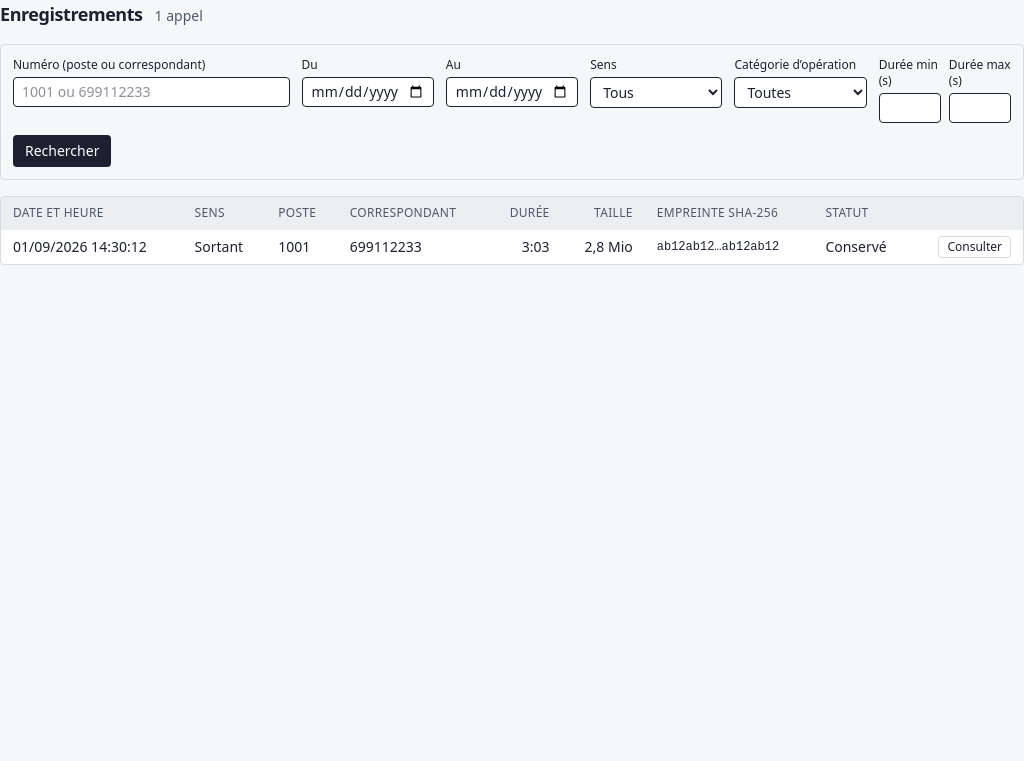
Scenario: réécoute d’un appel › referme la fiche sans laisser le lecteur derrière elle
Click the button with aria-label "Consulter l’appel 16778001" at (975, 247), box [938,236,1011,258]
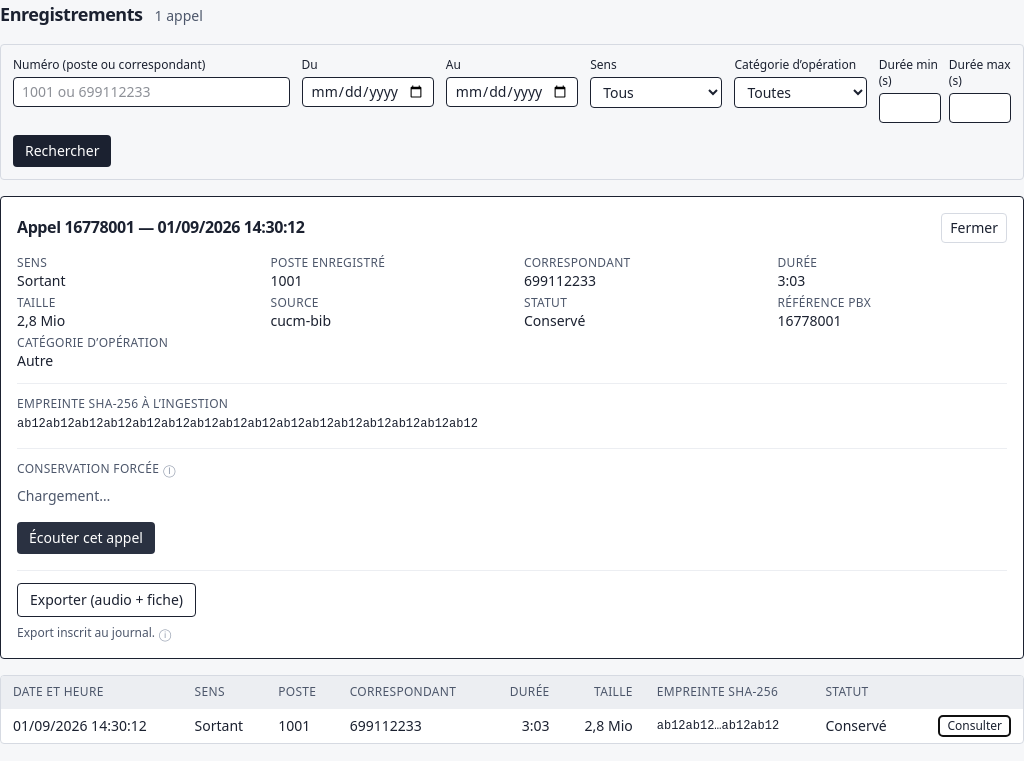
Click the button "Écouter cet appel" at (86, 538), box [17,522,155,554]
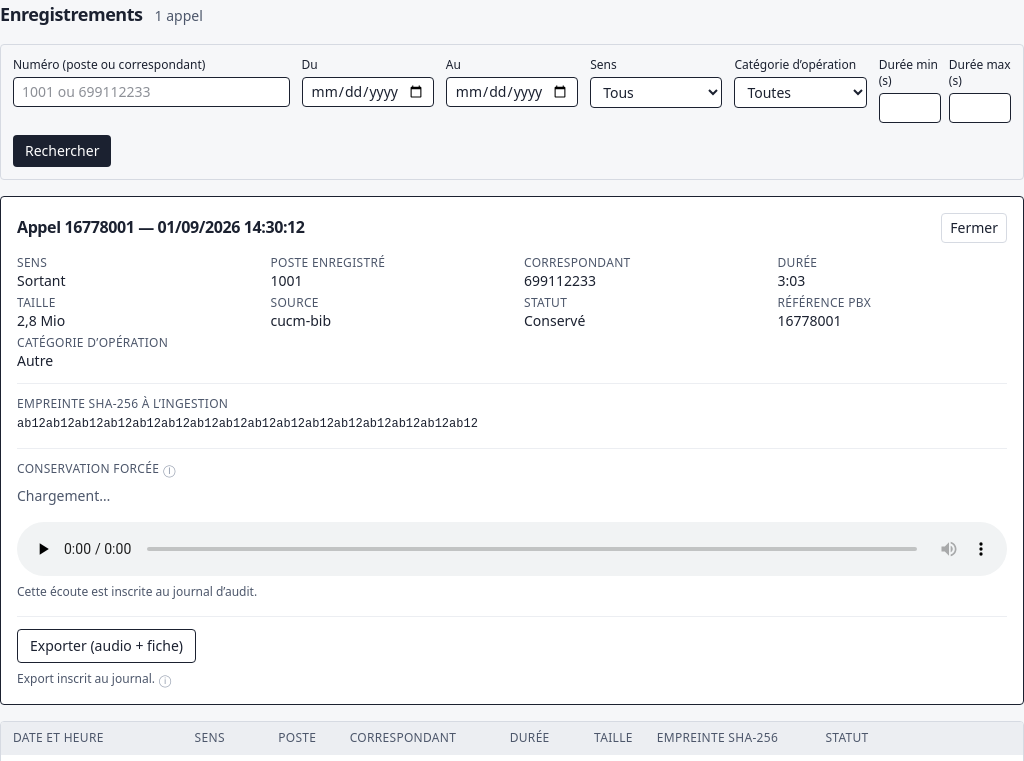
Expected: the element named "Lecture de l’appel 16778001" is shown, [17,522,1007,576]
Click the button "Fermer" at (974, 228), box [941,213,1007,243]
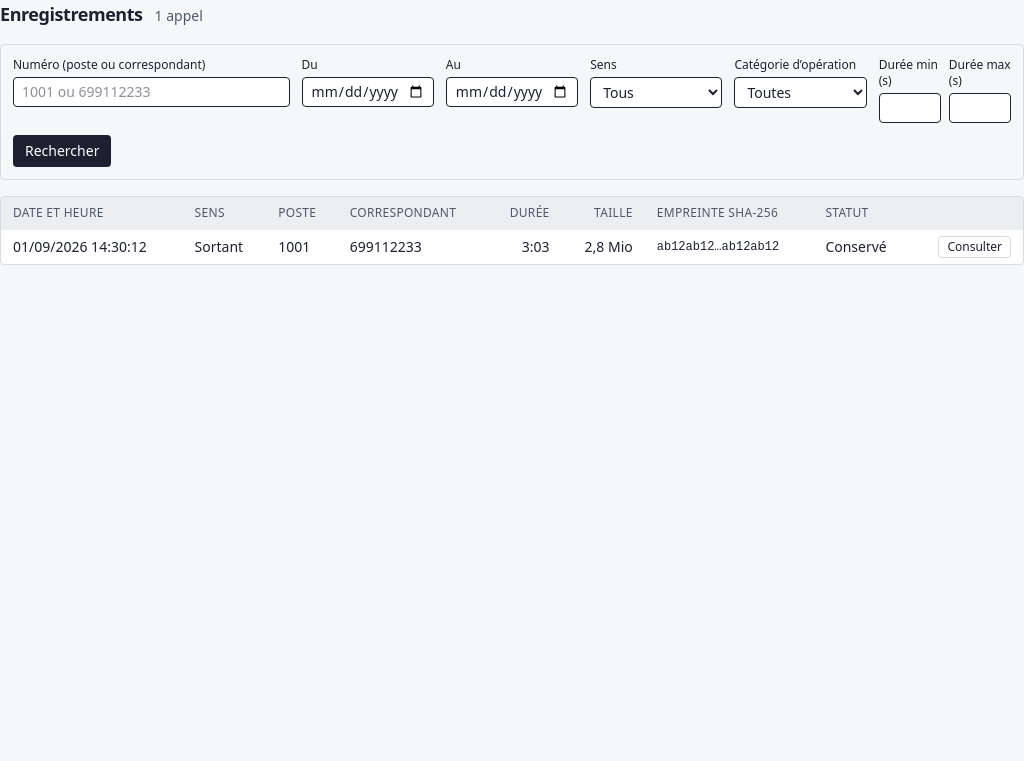
Expected: the heading "Appel 16778001" is gone
